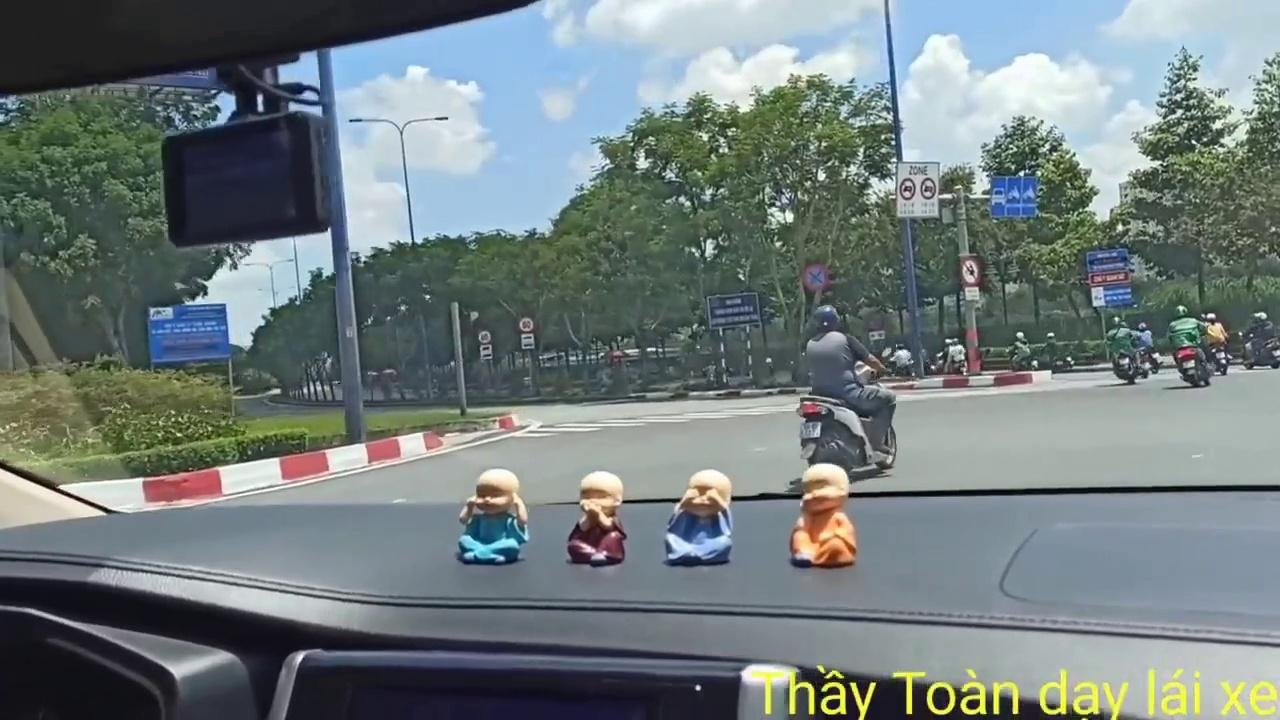Biển phụ: (521, 334, 534, 348), (480, 345, 492, 359)
Cấm cac phương tiện hoạt động trong khung giờ cố định: (894, 158, 940, 220)
Cấm dừng - Cấm đỗ: (801, 261, 827, 292)
Cấm xe máy: (959, 254, 982, 286)
GIơi hạn tốc độ 60Km/h: (479, 329, 491, 344)
Giới hạn tốc độ 80Km/h: (519, 315, 534, 333)
Khác: (148, 304, 232, 362), (1084, 248, 1134, 309)
Làn đường cho từng xe: (989, 174, 1036, 218)
